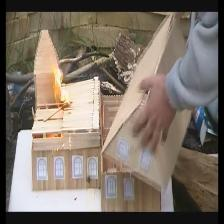fire: (55, 67, 70, 103)
